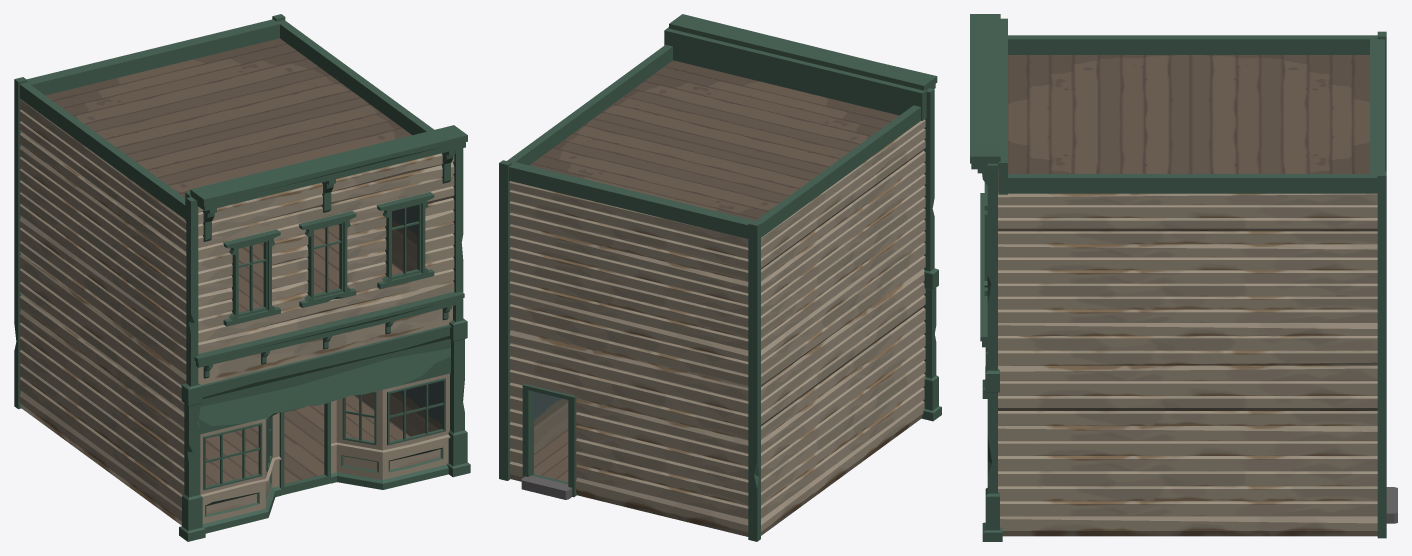
Rendered from SM_Bld_Shop_Small_01.obj.
The picture shows the model from 3 angles, left to right: view 1: azimuth 30°, elevation 25°; view 2: azimuth 150°, elevation 25°; view 3: azimuth 270°, elevation 25°; orthographic projection. The views are drawn at different scales.
Visible parts, largest first — view 1: SM_Bld_Shop_Small_01_0; view 2: SM_Bld_Shop_Small_01_0; view 3: SM_Bld_Shop_Small_01_0.
Boxes of the visible parts, x1,y1,x2,y2 form: SM_Bld_Shop_Small_01_0: [14, 14, 470, 541]; SM_Bld_Shop_Small_01_0: [499, 14, 941, 541]; SM_Bld_Shop_Small_01_0: [970, 14, 1397, 541].
Size of the model in its own units: 7.48 by 8.72 by 8.86.
Materials: 1 (1 with a texture image).
